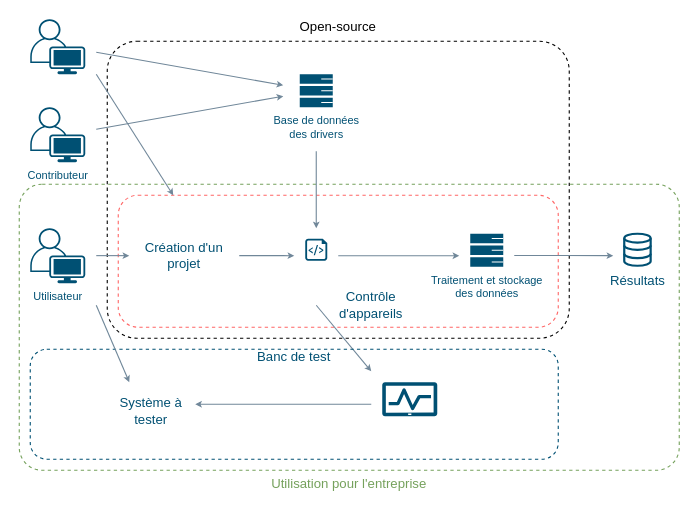
This 699x509 diagram has some shape labels left out. Here are the shapes that lost their labels. From the top down, the box of each, then its label:
(30, 19, 85, 74): Développeur
(305, 238, 327, 260): Écriture de script
(117, 194, 558, 327): Logiciel
(382, 382, 437, 416): Appareil
